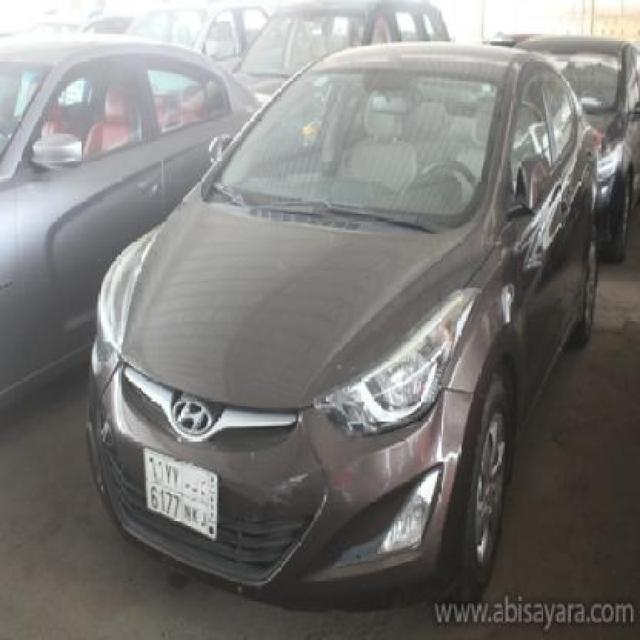license_plate: (141, 444, 219, 544)
